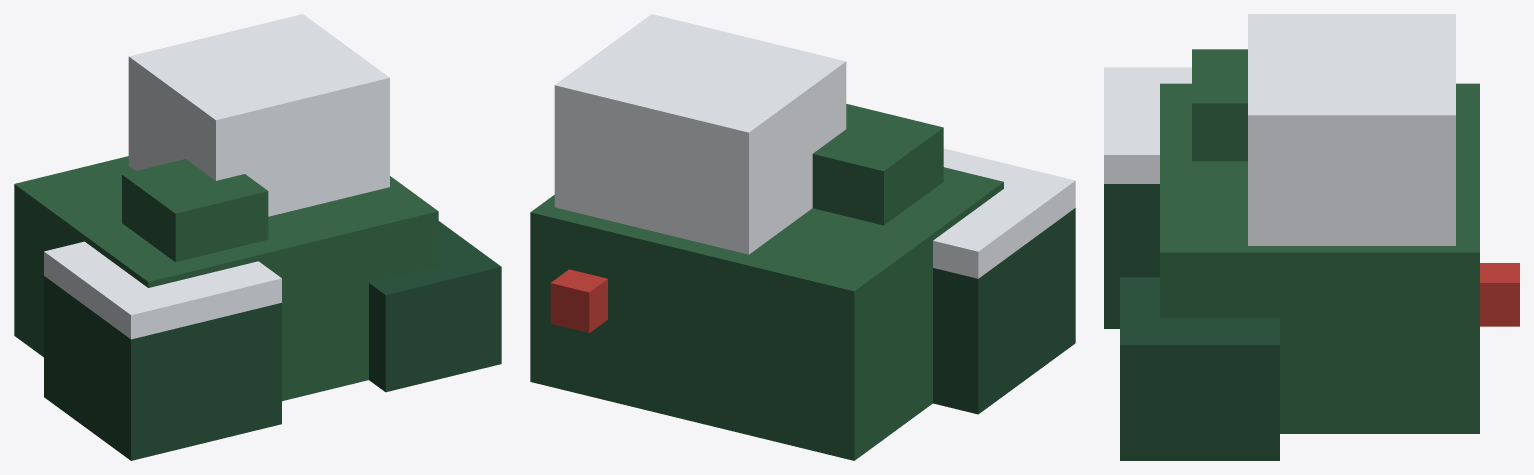
The model's file is FrostBush.glb.
3 renders of one model, left to right at view 1: azimuth 30°, elevation 25°; view 2: azimuth 150°, elevation 25°; view 3: azimuth 270°, elevation 25°, orthographic. The views are drawn at different scales.
Parts seen in each view (by area): view 1: FrostBush; view 2: FrostBush; view 3: FrostBush.
Boxes of the visible parts, x1,y1,x2,y2 form: FrostBush: (14,14,501,460); FrostBush: (530,14,1075,460); FrostBush: (1104,14,1519,460).
Size of the model in its own units: 6.5 by 4.3 by 5.2.
Materials: 1 (1 with a texture image).
